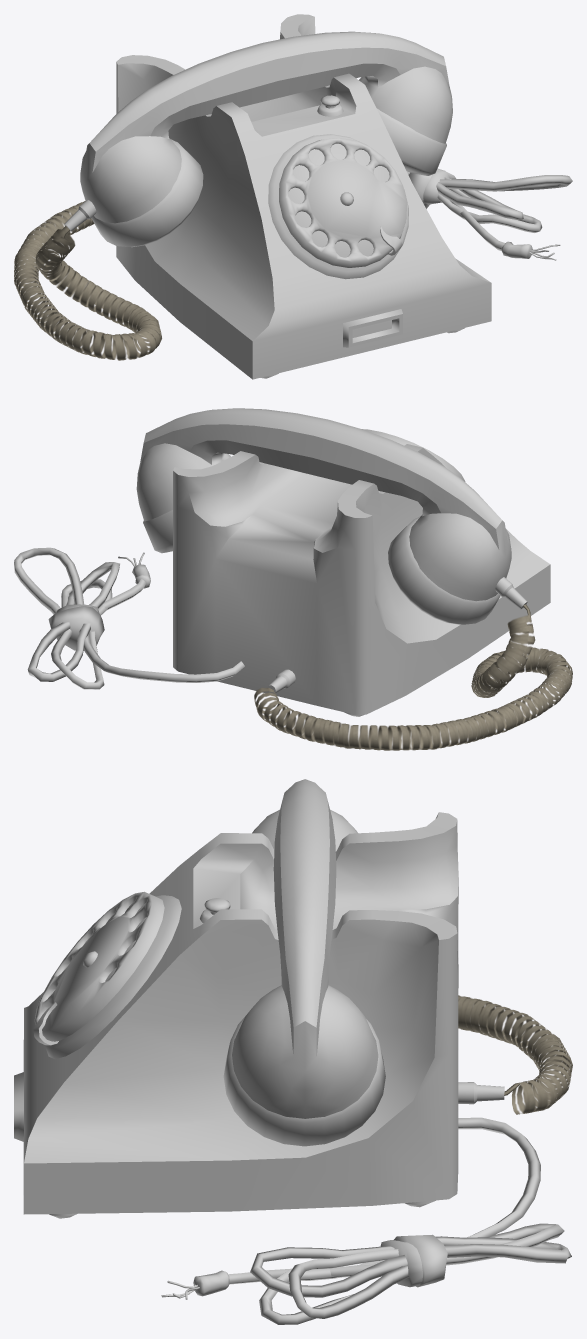
3 views of the same model, one above another, from view 1: azimuth 30°, elevation 25°; view 2: azimuth 150°, elevation 25°; view 3: azimuth 270°, elevation 25° (orthographic). The views are drawn at different scales.
Parts seen in each view (by area): view 1: body_Low_6, body_Low.001_5, body_Low.002_4, wire_Low_1, body_Low.004_3, wire_Low.001_0; view 2: body_Low_6, body_Low.001_5, wire_Low_1, body_Low.004_3, wire_Low.001_0, body_Low.002_4; view 3: body_Low_6, body_Low.001_5, body_Low.004_3, body_Low.002_4, wire_Low_1, wire_Low.001_0.
Boxes of the visible parts, <box> form: body_Low_6: <box>116,14,491,379</box>; body_Low.001_5: <box>64,31,452,247</box>; body_Low.002_4: <box>279,138,406,267</box>; wire_Low_1: <box>14,201,161,360</box>; body_Low.004_3: <box>407,168,572,260</box>; wire_Low.001_0: <box>14,201,161,359</box>; body_Low_6: <box>173,444,550,716</box>; body_Low.001_5: <box>136,408,527,624</box>; wire_Low_1: <box>254,604,572,750</box>; body_Low.004_3: <box>14,547,244,689</box>; wire_Low.001_0: <box>254,615,572,750</box>; body_Low.002_4: <box>362,429,465,481</box>; body_Low_6: <box>14,812,504,1218</box>; body_Low.001_5: <box>223,779,385,1146</box>; body_Low.004_3: <box>161,1117,571,1324</box>; body_Low.002_4: <box>34,891,164,1041</box>; wire_Low_1: <box>458,995,572,1113</box>; wire_Low.001_0: <box>458,996,571,1114</box>.
Size of the model in its own units: 5.88 by 2.56 by 4.03.
